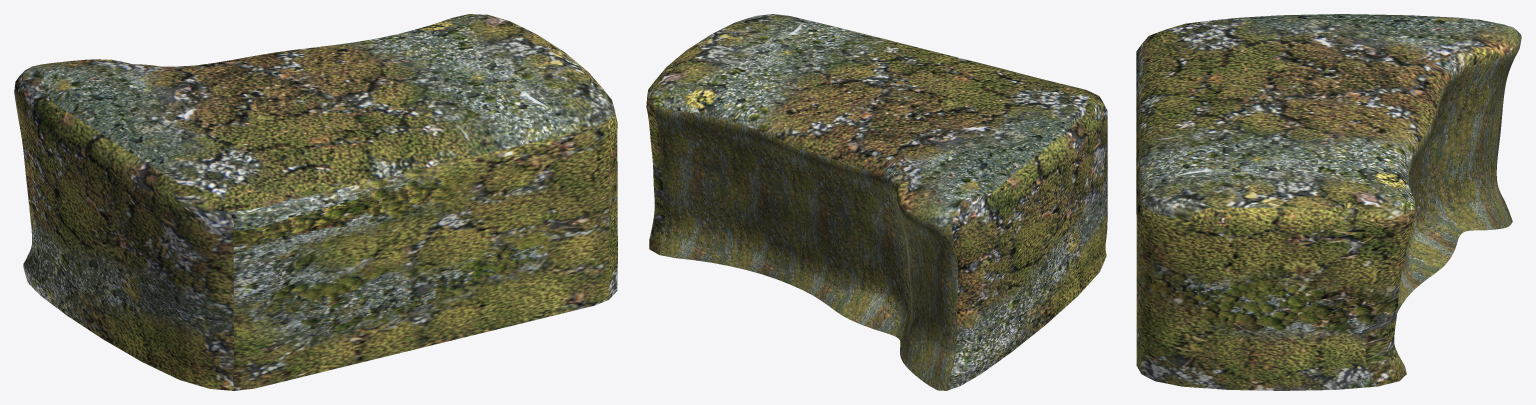
File: xuanya_1.FBX
The picture shows the model from 3 angles, left to right: view 1: azimuth 30°, elevation 25°; view 2: azimuth 150°, elevation 25°; view 3: azimuth 270°, elevation 25°; orthographic projection. The views are drawn at different scales.
Parts seen in each view (by area): view 1: shanti2; view 2: shanti2; view 3: shanti2.
Part boxes in pixels (x1=…): shanti2: x1=14, y1=14, x2=617, y2=390; shanti2: x1=646, y1=14, x2=1107, y2=390; shanti2: x1=1136, y1=14, x2=1521, y2=390.
Size of the model in its own units: 27894 by 12935 by 21951.
Materials: 1 (1 with a texture image).
